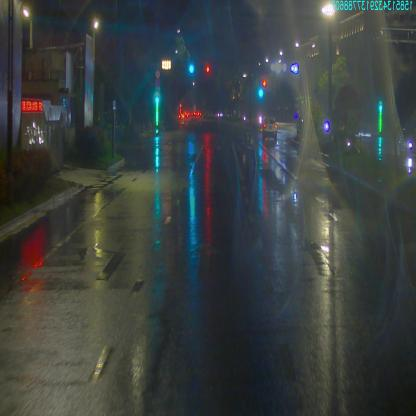traffic-light: (187, 62, 196, 76), (203, 62, 211, 73)
